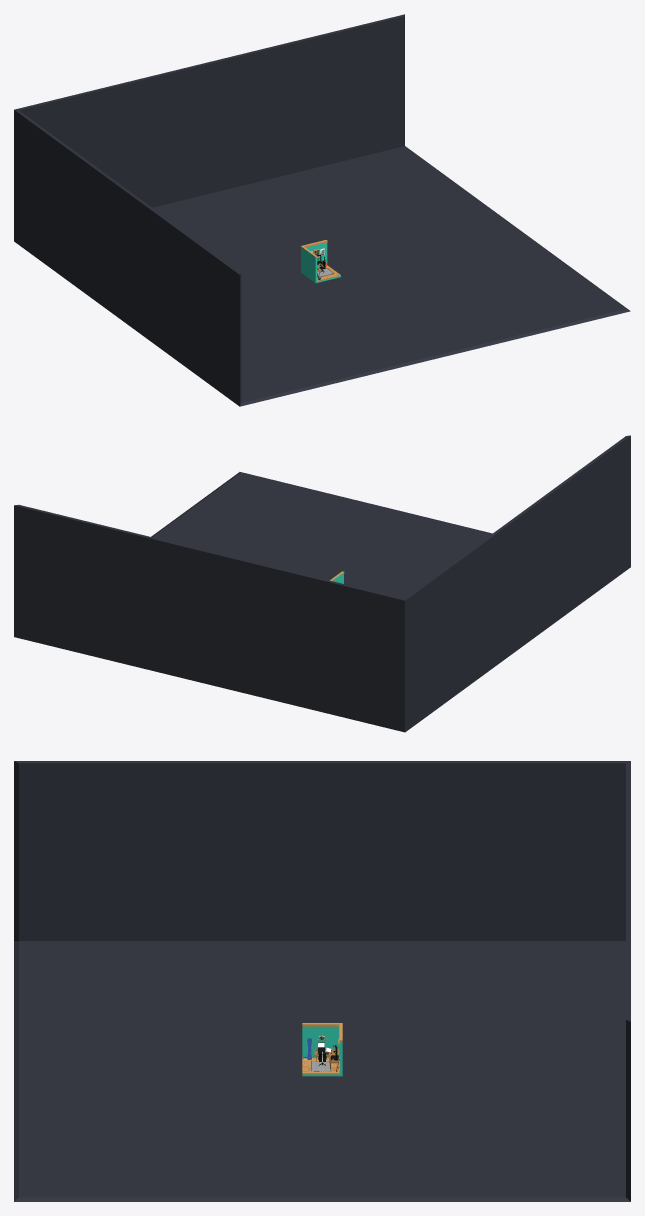
The picture shows the model from 3 angles, top to bottom: view 1: azimuth 30°, elevation 25°; view 2: azimuth 150°, elevation 25°; view 3: azimuth 270°, elevation 25°; orthographic projection. The views are drawn at different scales.
Parts seen in each view (by area): view 1: world, walls; view 2: world; view 3: world, walls.
Boxes of the visible parts, box(x1,y1,x2,y2) form: world: box(14, 14, 630, 406); walls: box(300, 242, 340, 283); world: box(14, 435, 630, 732); world: box(14, 761, 630, 1201); walls: box(302, 1026, 342, 1076).
Size of the model in its own units: 117 by 37.77 by 117.
Materials: 35 (7 with a texture image).
